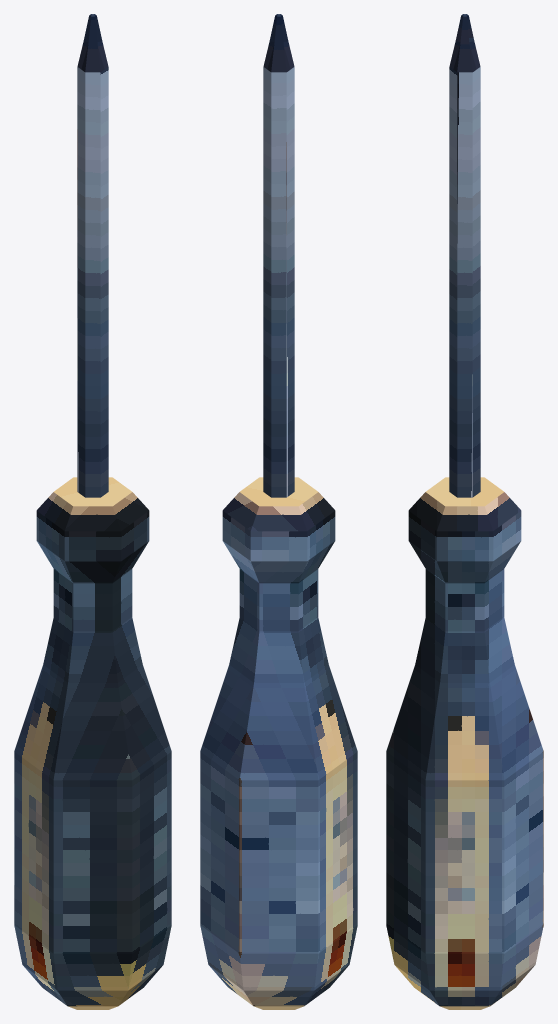
The model's file is screwdriver.glb.
3 renders of one model, left to right at view 1: azimuth 30°, elevation 25°; view 2: azimuth 150°, elevation 25°; view 3: azimuth 270°, elevation 25°, orthographic.
Parts seen in each view (by area): view 1: Cylinder; view 2: Cylinder; view 3: Cylinder.
Boxes of the visible parts, bbox=[...] form: Cylinder: bbox=[14, 14, 171, 1009]; Cylinder: bbox=[200, 14, 357, 1009]; Cylinder: bbox=[386, 14, 543, 1009].
Size of the model in its own units: 0.0739 by 0.5875 by 0.0853.
1 material, 1 textured.
